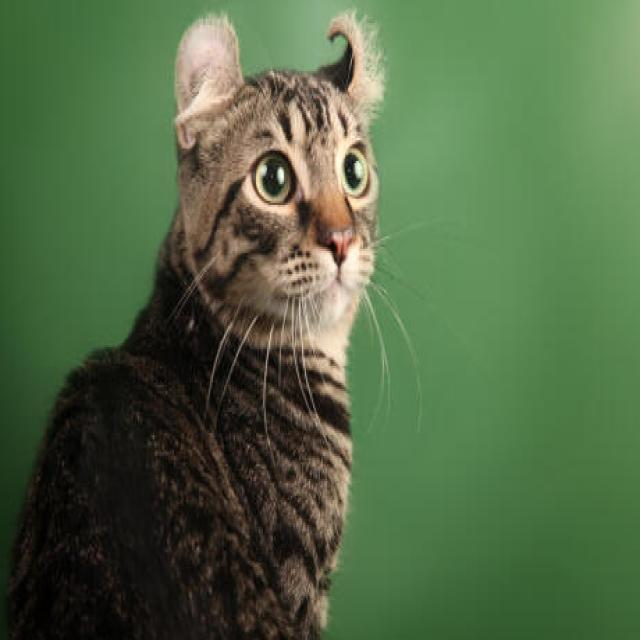American Curl: (0, 4, 388, 640)
